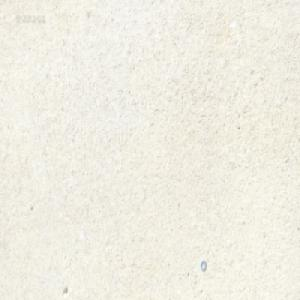Washer: (200, 260, 206, 272)
